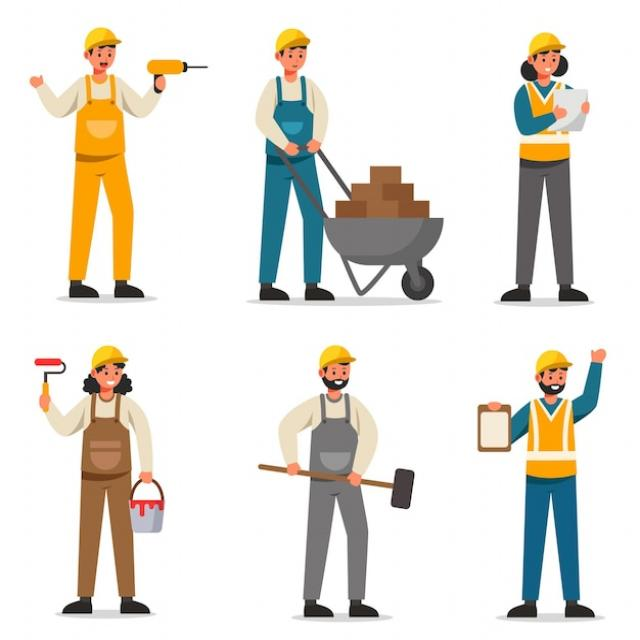Reflective-Jacket: (520, 394, 580, 477)
Safety-Helmet: (524, 28, 568, 58), (532, 346, 574, 376), (88, 342, 130, 371), (80, 24, 122, 52), (273, 24, 312, 54), (316, 342, 357, 370)
